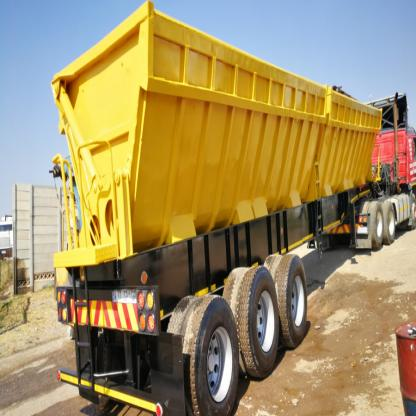dump_truck: (40, 3, 416, 415)
